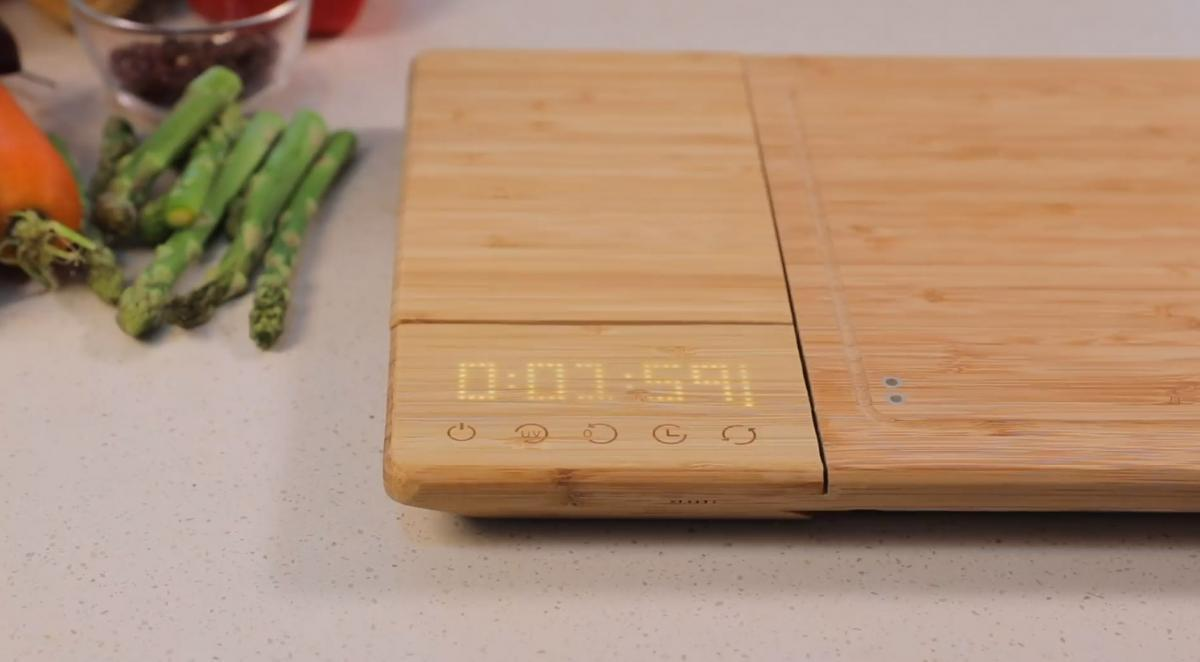gloved_hand: (370, 25, 1200, 544)
